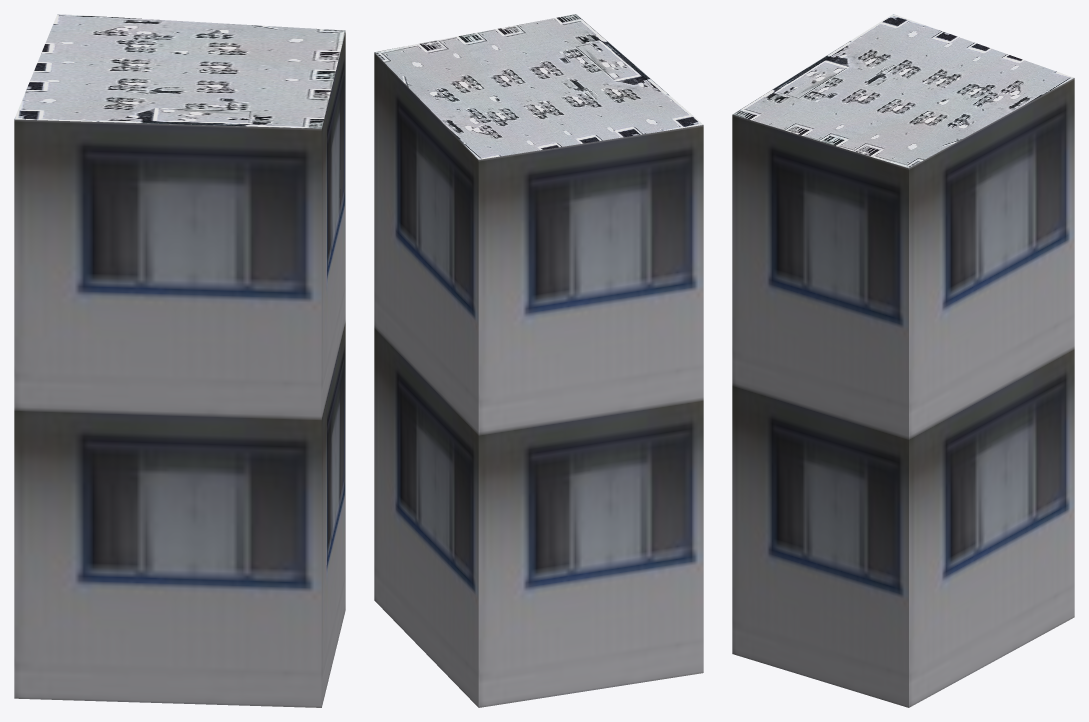
File: ResTex__223.fbx
The picture shows the model from 3 angles, left to right: view 1: azimuth 30°, elevation 25°; view 2: azimuth 150°, elevation 25°; view 3: azimuth 270°, elevation 25°; orthographic projection. The views are drawn at different scales.
Visible parts, largest first — view 1: CityEngineMaterial_9_m, CityEngineMaterial_2_m; view 2: CityEngineMaterial_9_m, CityEngineMaterial_2_m; view 3: CityEngineMaterial_9_m, CityEngineMaterial_2_m.
Part boxes in pixels (x1=…): CityEngineMaterial_9_m: x1=14, y1=32, x2=345, y2=707; CityEngineMaterial_2_m: x1=14, y1=14, x2=345, y2=128; CityEngineMaterial_9_m: x1=374, y1=52, x2=703, y2=707; CityEngineMaterial_2_m: x1=374, y1=14, x2=703, y2=159; CityEngineMaterial_9_m: x1=732, y1=78, x2=1074, y2=707; CityEngineMaterial_2_m: x1=732, y1=14, x2=1073, y2=168.
Bounding box in the file's own units: 3.68 × 6 × 3.45.
Materials: 2 (2 with a texture image).
